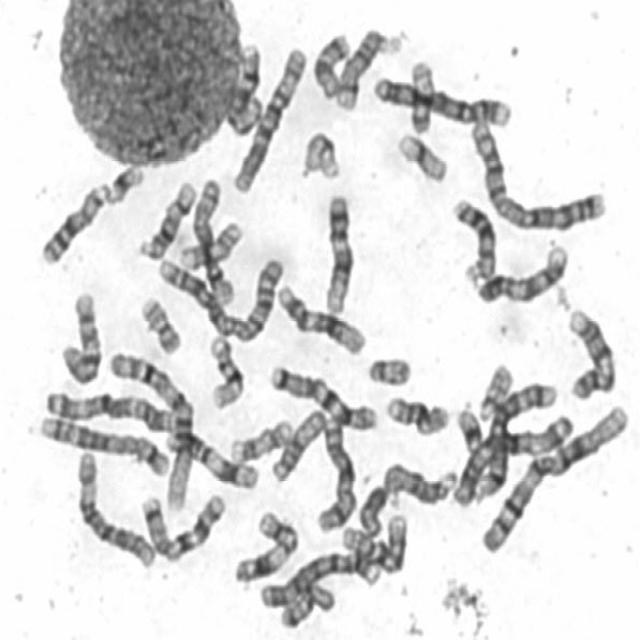A1: (475, 396, 632, 556), (105, 342, 197, 516)
A2: (465, 113, 609, 234), (152, 245, 284, 344)
A3: (447, 397, 569, 508), (40, 383, 174, 433)
B4: (366, 69, 514, 129), (255, 544, 383, 610)
B5: (447, 375, 560, 508), (33, 409, 174, 477)
C10: (338, 508, 410, 577), (56, 284, 104, 386)
C11: (161, 425, 260, 491), (227, 504, 300, 586)
C12: (271, 278, 367, 358), (318, 187, 355, 316)
C6: (226, 38, 309, 195), (70, 445, 156, 570)
C7: (265, 358, 379, 433), (136, 488, 226, 563)
C8: (188, 174, 237, 306), (221, 44, 273, 134)
C9: (473, 236, 570, 306), (562, 301, 618, 401)
D13: (36, 176, 110, 268), (447, 191, 499, 284)
D14: (330, 20, 404, 112), (133, 175, 198, 262)
D15: (266, 404, 328, 486), (377, 456, 459, 508)
E16: (202, 328, 245, 411), (381, 390, 450, 438)
E17: (173, 214, 244, 270), (225, 413, 295, 464)
E18: (274, 576, 336, 630), (308, 26, 352, 100)
F19: (392, 126, 451, 186), (297, 124, 342, 182)
F20: (135, 289, 183, 355), (404, 54, 438, 136)
G21: (96, 157, 146, 206), (451, 400, 486, 454)
G22: (472, 356, 514, 422), (364, 348, 415, 390)
X: (311, 410, 358, 534)
Y: (353, 478, 392, 538)
